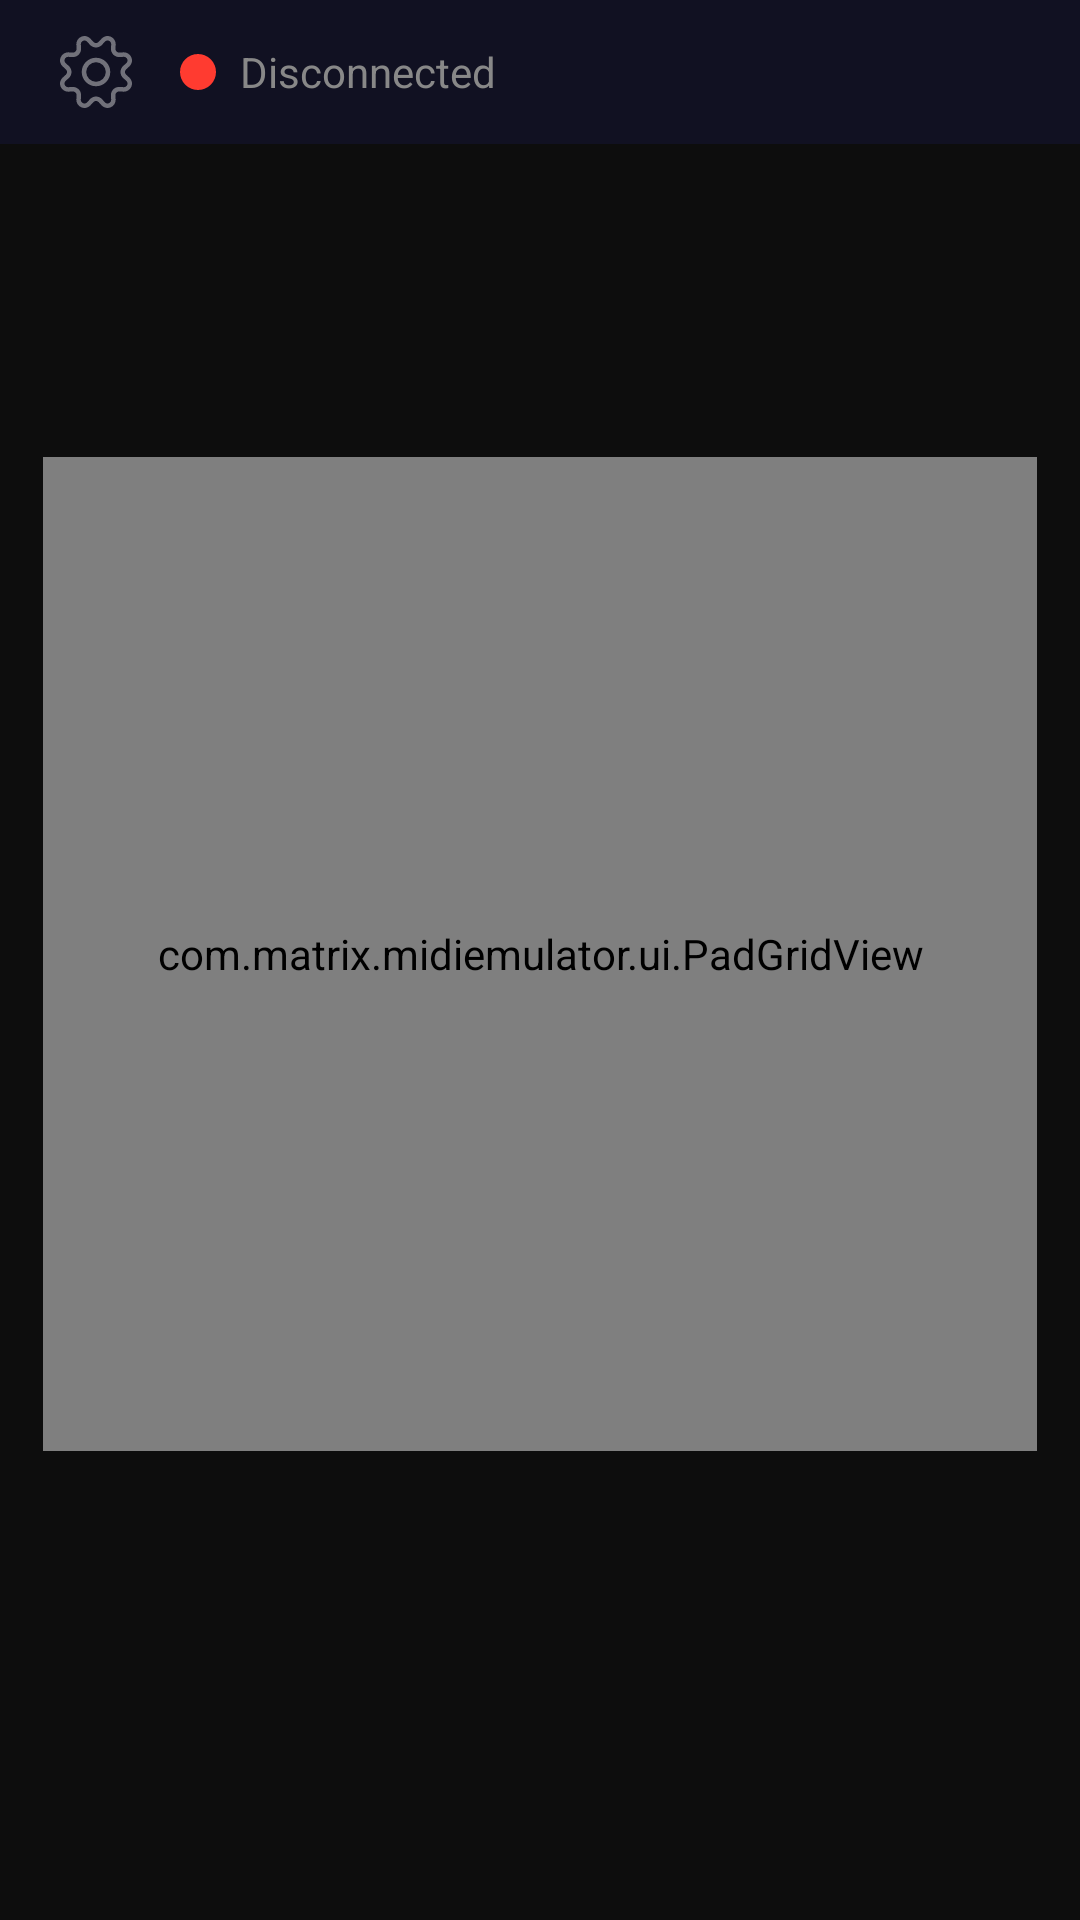

Locate icon controls on the screen. Image size 1080px x 1920px, boxes as box=[x1, y1, x2, y2].
Settings: box=[60, 36, 132, 108]
